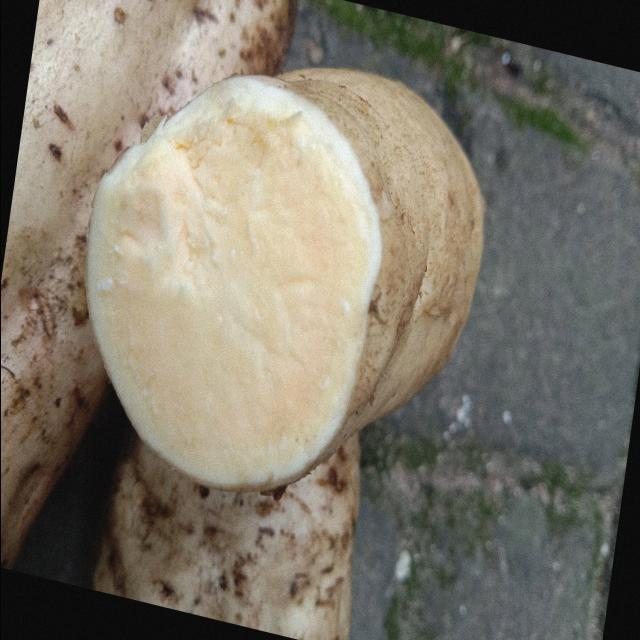Healthy Sweet Potato: (88, 78, 380, 488)
